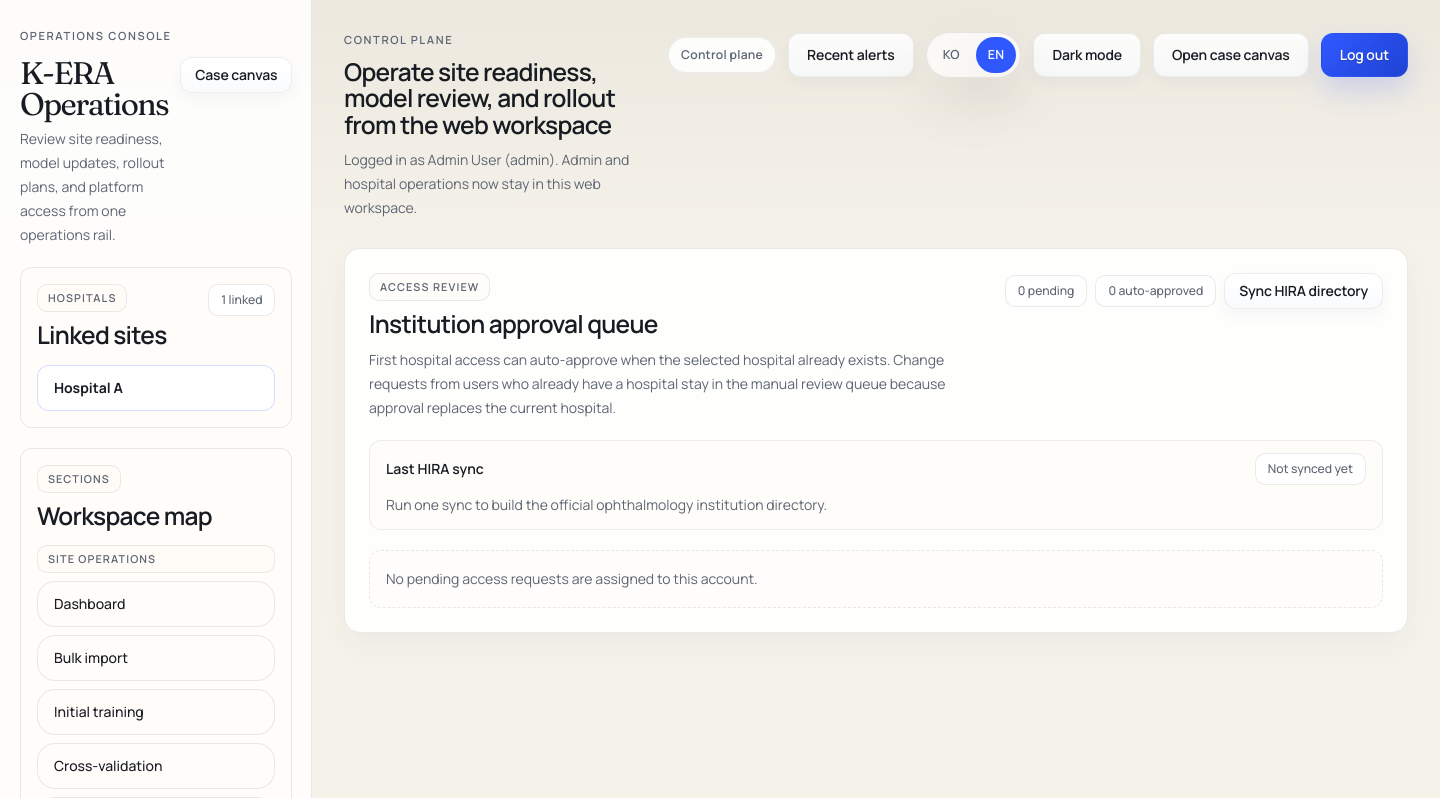
Test case: AdminWorkspace integration › runs HIRA institution sync from the requests section
Click the button "Sync HIRA directory": {"x": 1304, "y": 291} top-left (1224, 273), bottom-right (1383, 309)
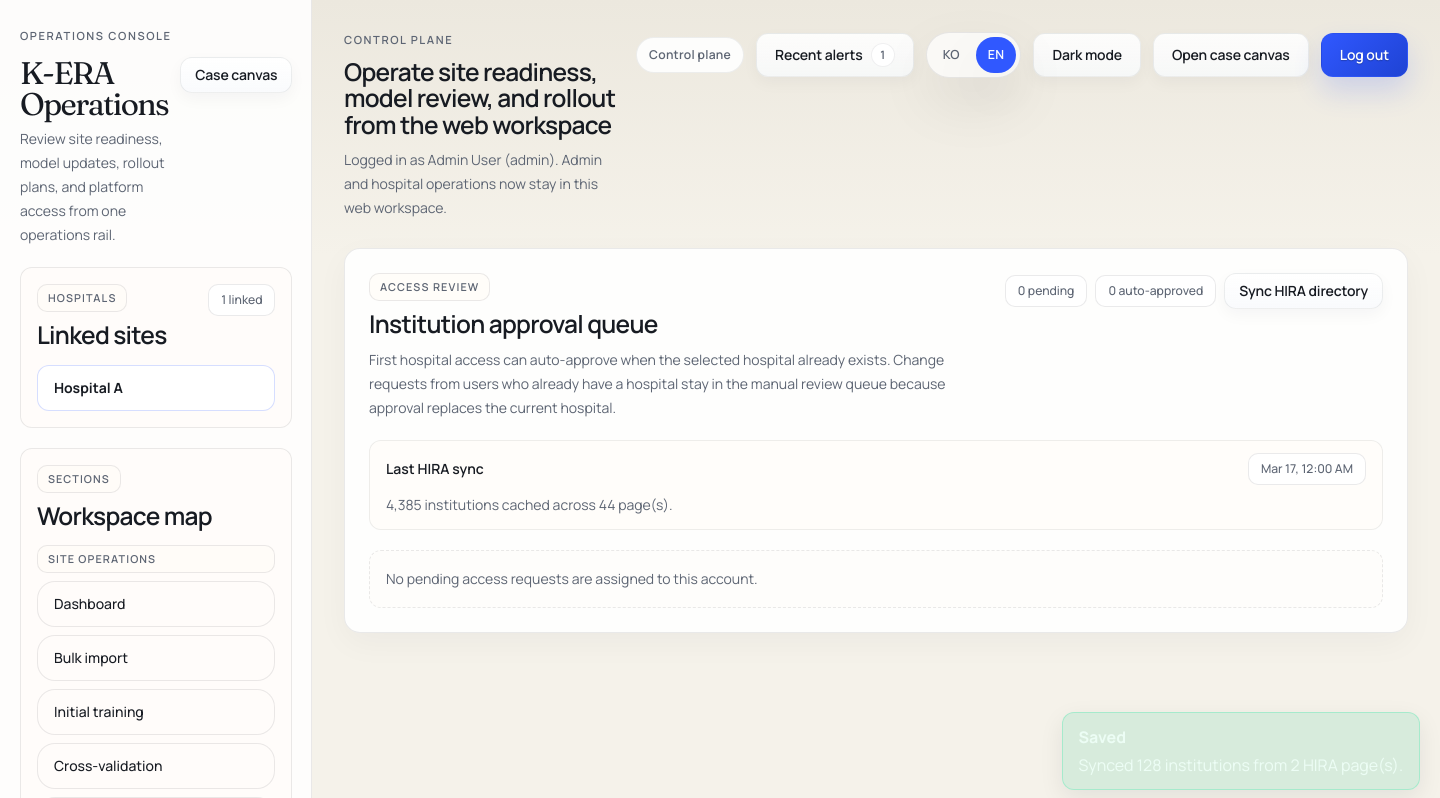
Expected: the text "Synced 128 institutions from 2 HIRA page(s)." is shown, top-left (1079, 753), bottom-right (1403, 777)
